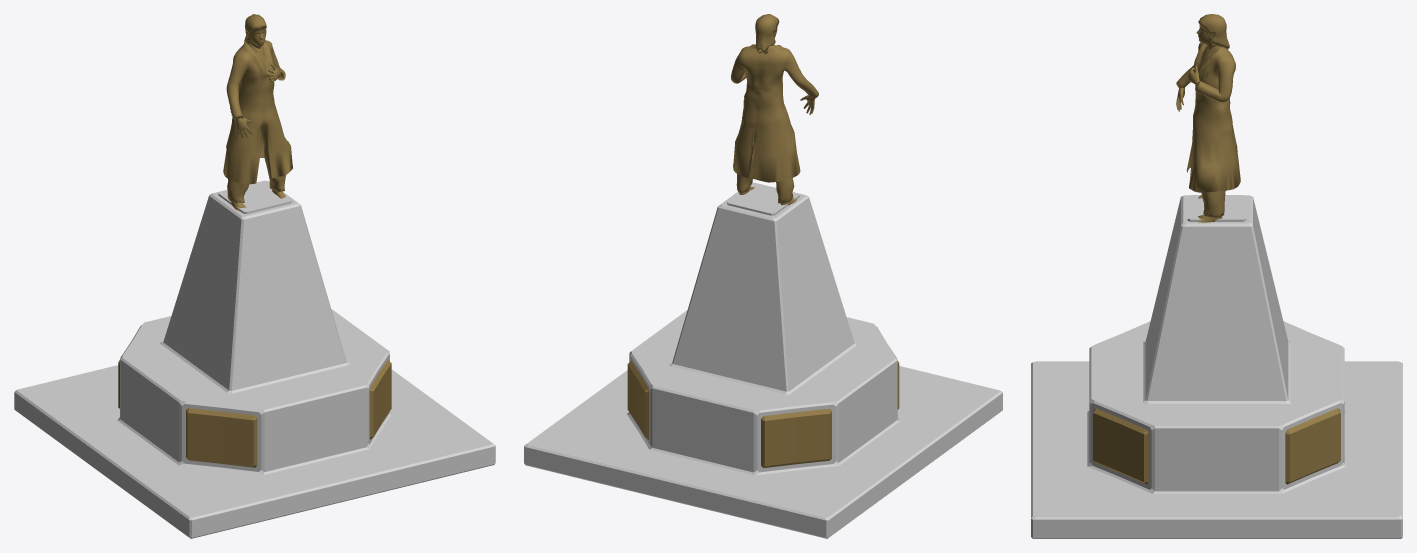
The model's file is PomnikKoscieszki.fbx.
The picture shows the model from 3 angles, left to right: view 1: azimuth 30°, elevation 25°; view 2: azimuth 150°, elevation 25°; view 3: azimuth 270°, elevation 25°; orthographic projection. The views are drawn at different scales.
Visible parts, largest first — view 1: Podstawa; view 2: Podstawa; view 3: Podstawa.
Part boxes in pixels (x1=…): Podstawa: x1=14, y1=14, x2=495, y2=538; Podstawa: x1=524, y1=14, x2=1002, y2=538; Podstawa: x1=1031, y1=14, x2=1402, y2=538.
Bounding box in the file's own units: 299 × 395 × 299.
